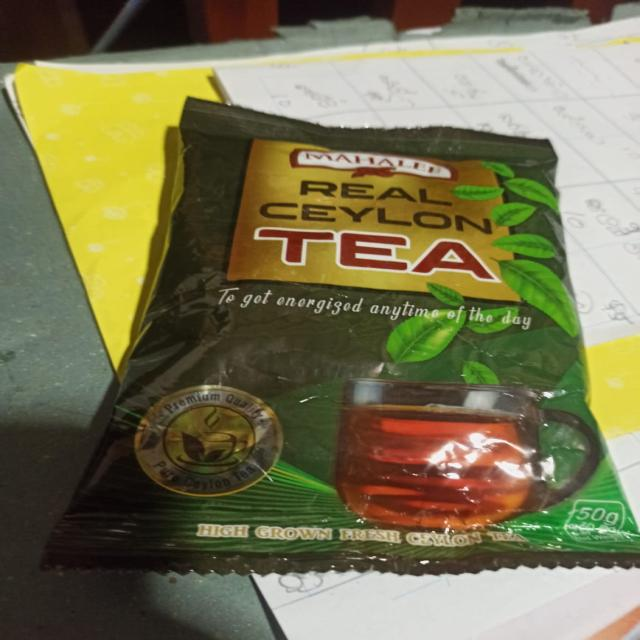Ceryloan TEA: (129, 82, 630, 609)
